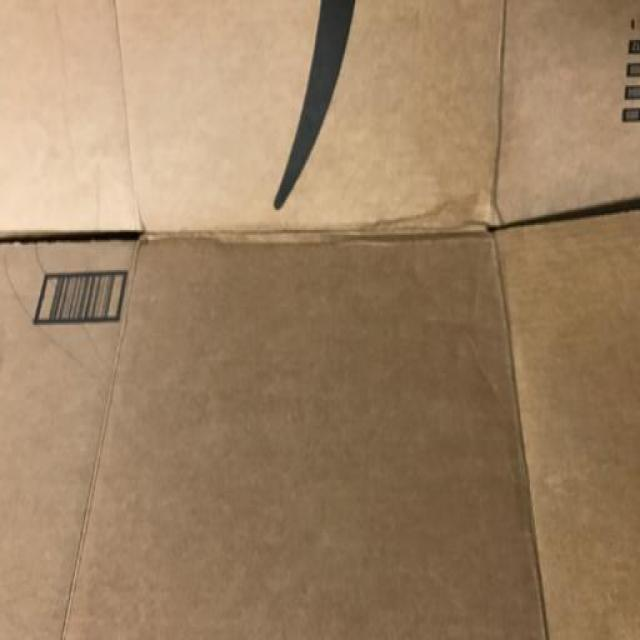cardboard: (3, 5, 640, 640)
